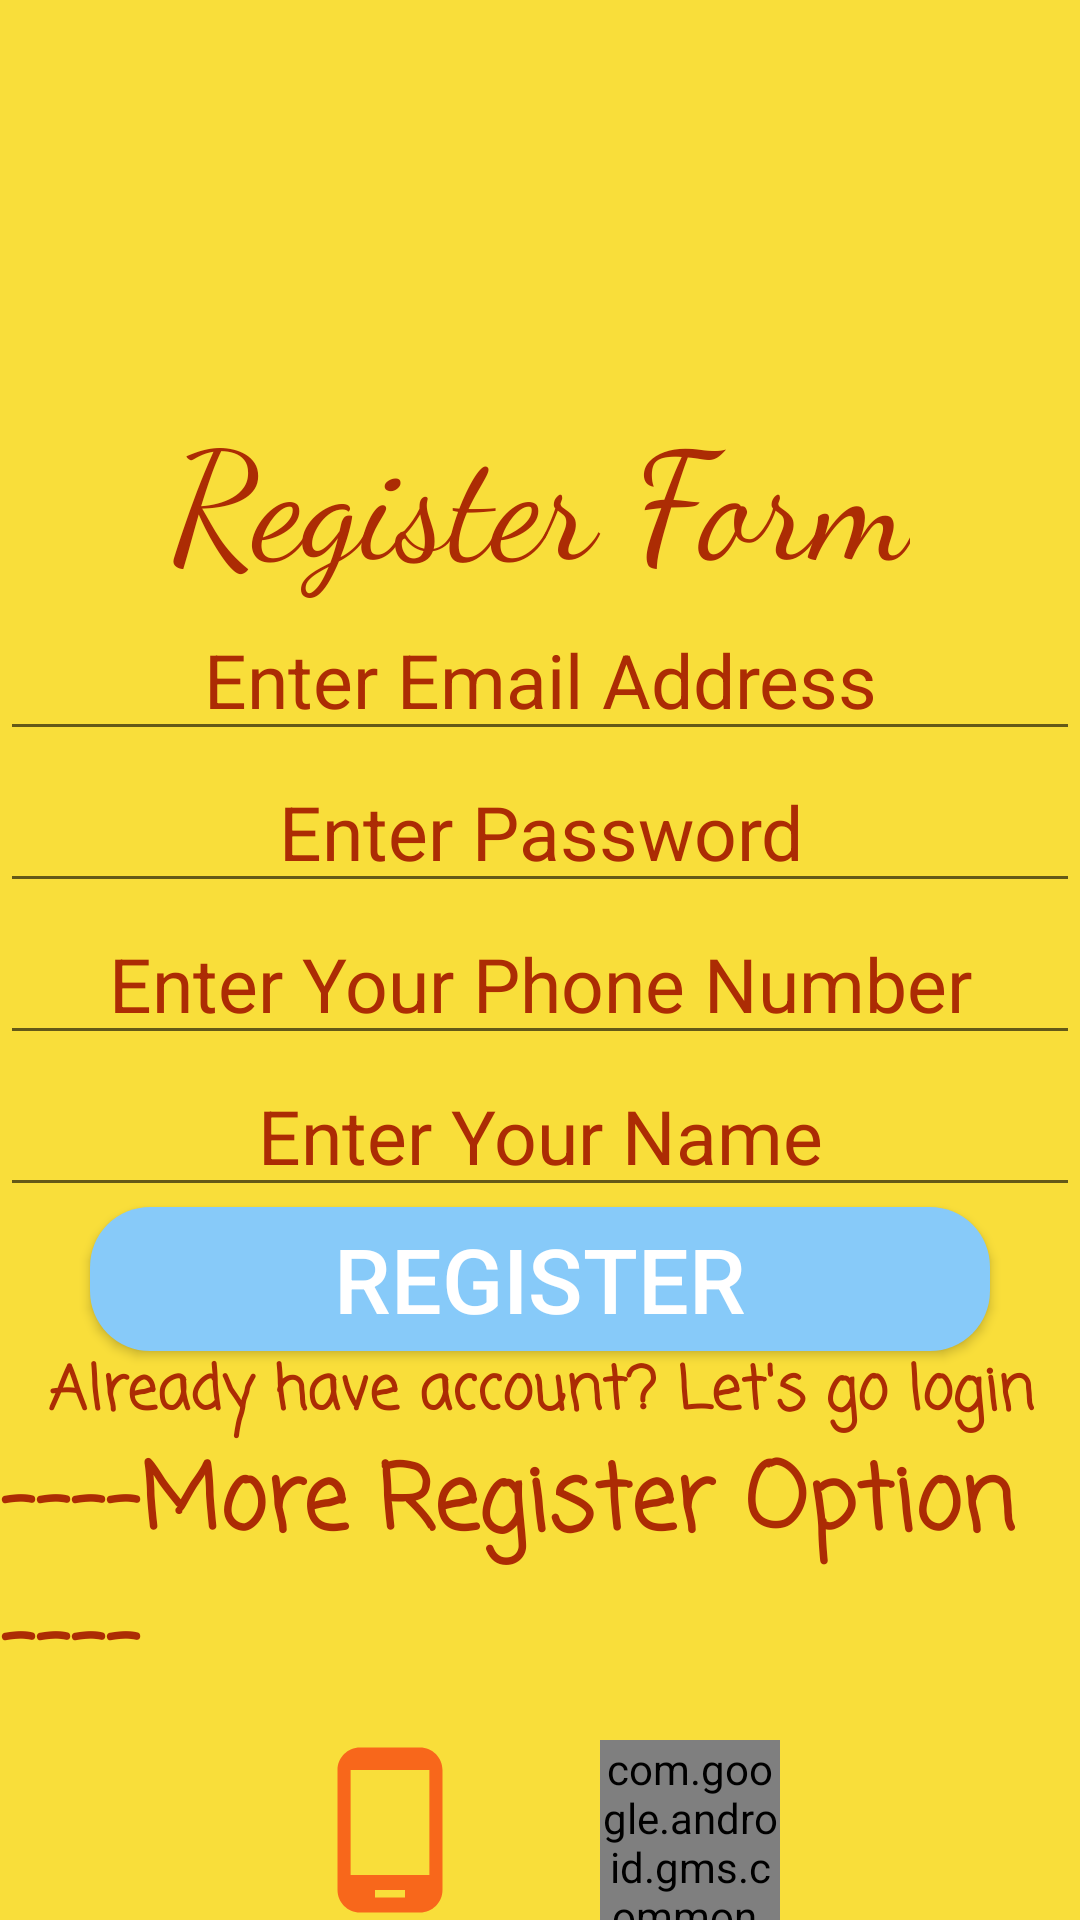

Locate icon controls on the screen. Image size 1080×1920, boxes as (x1, y1, x2, y2).
phone android: (337, 1747, 443, 1913)
